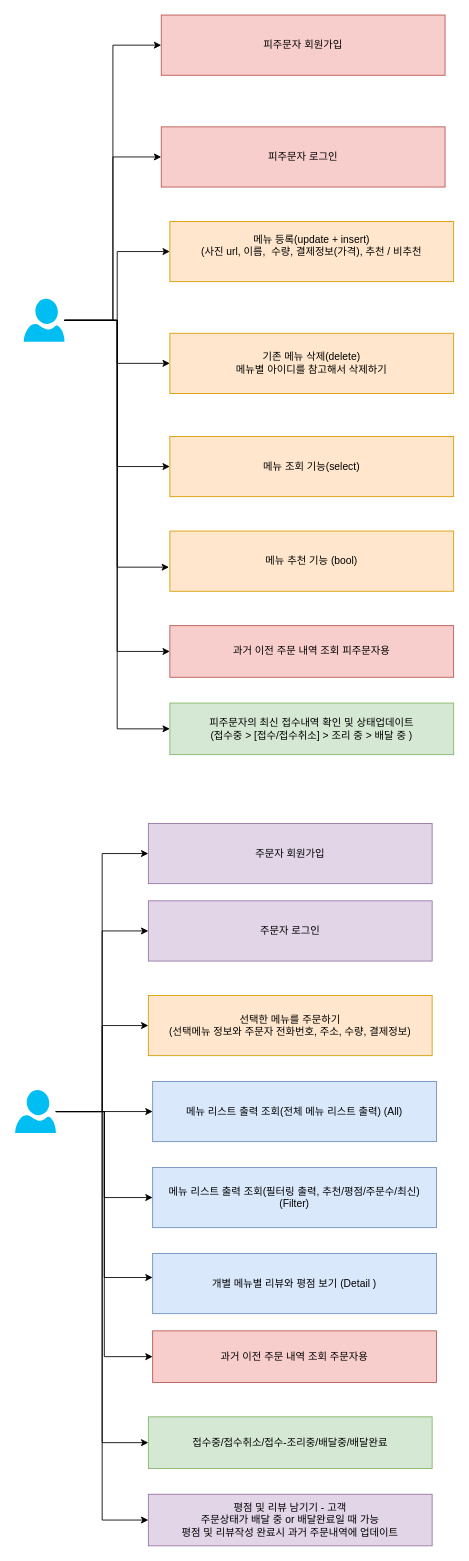
This 469x1561 diagram has some shape labels left out. The box of each missing label's shape, as (x1, y1, x2, y2) in pixels:
주문자: (15, 1090, 55, 1133)
피주문자: (23, 298, 64, 341)
